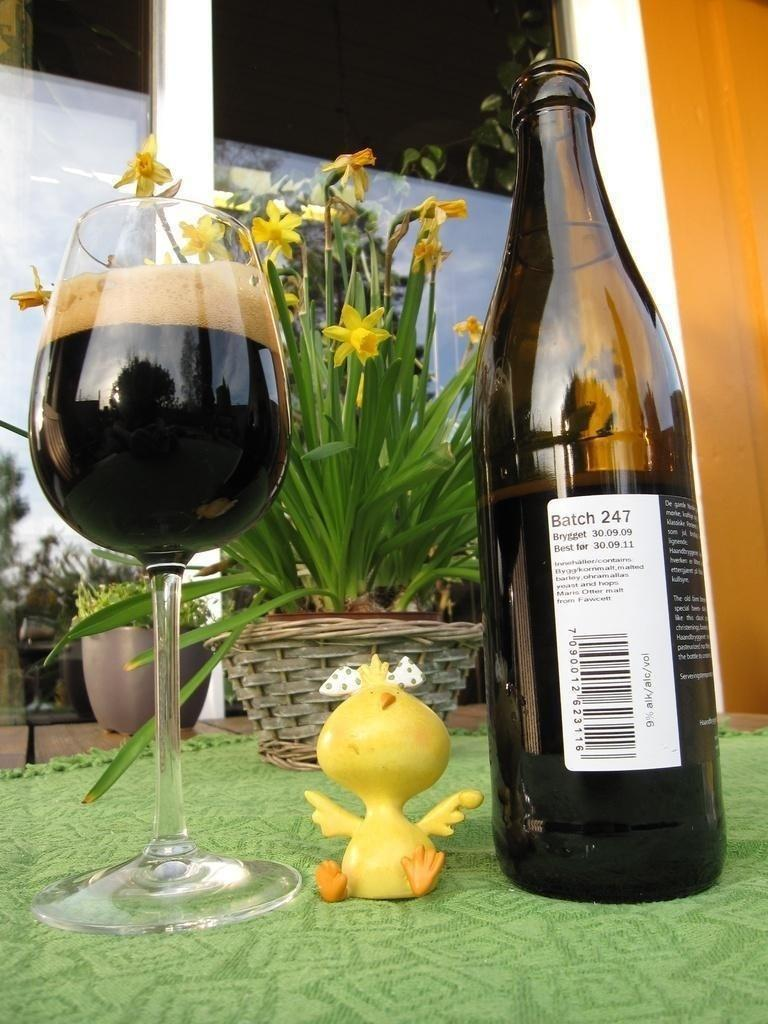bottle-glass: (470, 57, 727, 904)
glass-wine: (30, 198, 300, 932)
